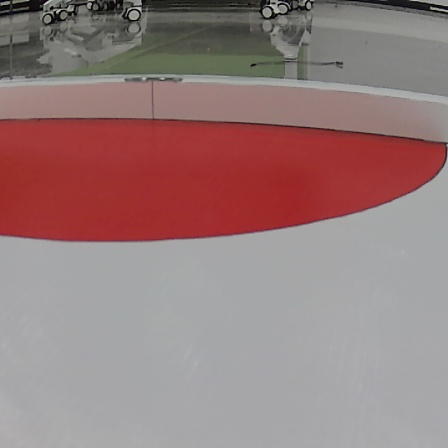red_base: (2, 113, 447, 249)
